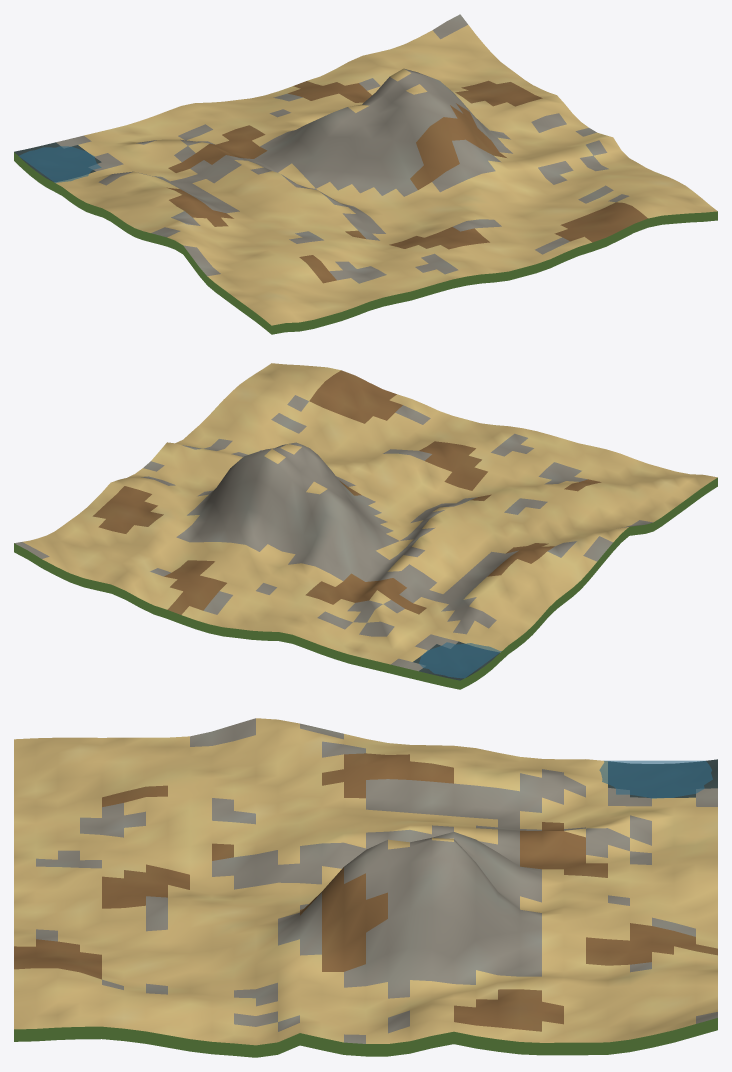
File: chunk_7_6_lod1.glb
3 views of the same model, one above another, from view 1: azimuth 30°, elevation 25°; view 2: azimuth 150°, elevation 25°; view 3: azimuth 270°, elevation 25° (orthographic). The views are drawn at different scales.
Visible parts, largest first — view 1: Surface_Sand, Surface_Gravel, Surface_Dirt, Skirt, Surface_Water, Water; view 2: Surface_Sand, Surface_Gravel, Surface_Dirt, Skirt, Surface_Water, Water; view 3: Surface_Sand, Surface_Gravel, Surface_Dirt, Skirt, Water, Surface_Water.
Boxes of the visible parts, left/top/right/bottom form: Surface_Sand: left=54, top=25, right=717, bottom=325; Surface_Gravel: left=56, top=14, right=629, bottom=283; Surface_Dirt: left=167, top=80, right=647, bottom=283; Skirt: left=14, top=152, right=717, bottom=334; Surface_Water: left=14, top=142, right=101, bottom=182; Water: left=19, top=146, right=101, bottom=182; Surface_Sand: left=22, top=363, right=717, bottom=664; Surface_Gravel: left=14, top=395, right=652, bottom=671; Surface_Dirt: left=92, top=370, right=601, bottom=614; Skirt: left=14, top=477, right=717, bottom=689; Surface_Water: left=413, top=641, right=499, bottom=680; Water: left=419, top=642, right=501, bottom=678; Surface_Sand: left=14, top=718, right=717, bottom=1045; Surface_Gravel: left=36, top=718, right=717, bottom=1043; Surface_Dirt: left=14, top=753, right=717, bottom=1031; Skirt: left=14, top=1018, right=717, bottom=1057; Water: left=599, top=760, right=712, bottom=798; Surface_Water: left=608, top=759, right=717, bottom=797.
Bounding box in the file's own units: 256 × 53.59 × 256.
